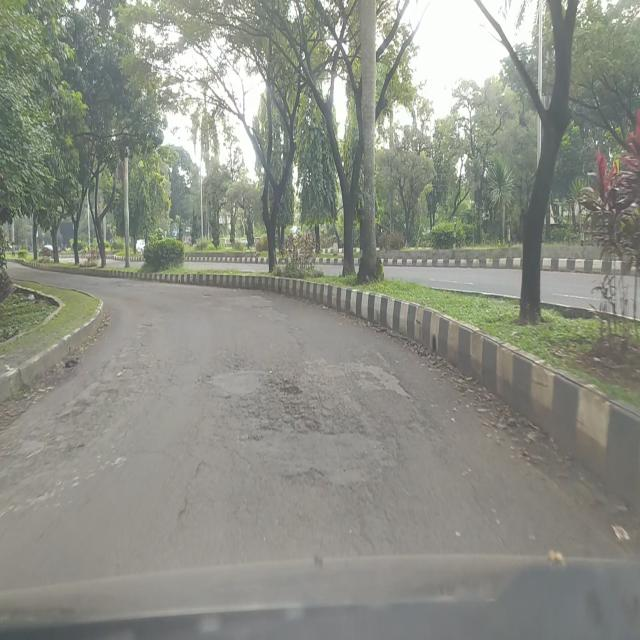Drain Hole: (219, 362, 367, 446)
